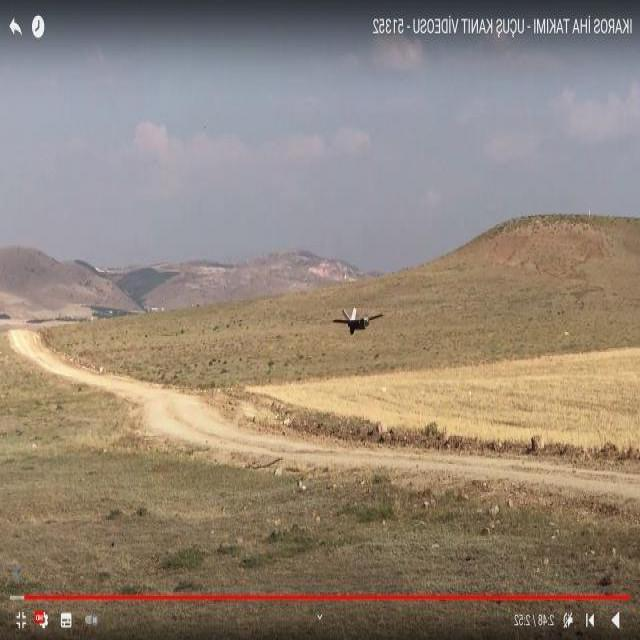iha: (333, 307, 385, 333)
